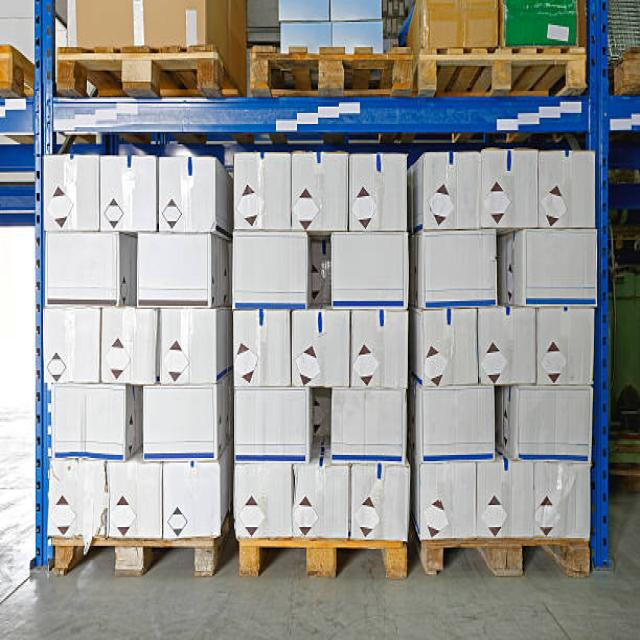Wooden-Pallets: (52, 37, 220, 96), (235, 532, 414, 585), (247, 42, 416, 98), (46, 528, 218, 580), (418, 535, 592, 586), (421, 48, 588, 96)
